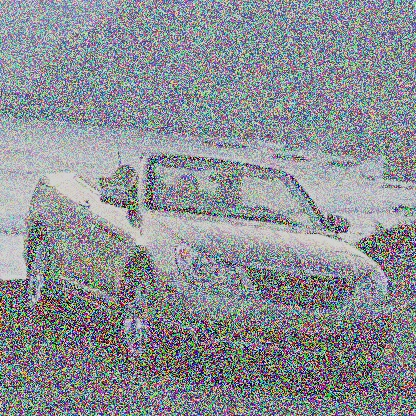Vehicle: (22, 148, 395, 393)
